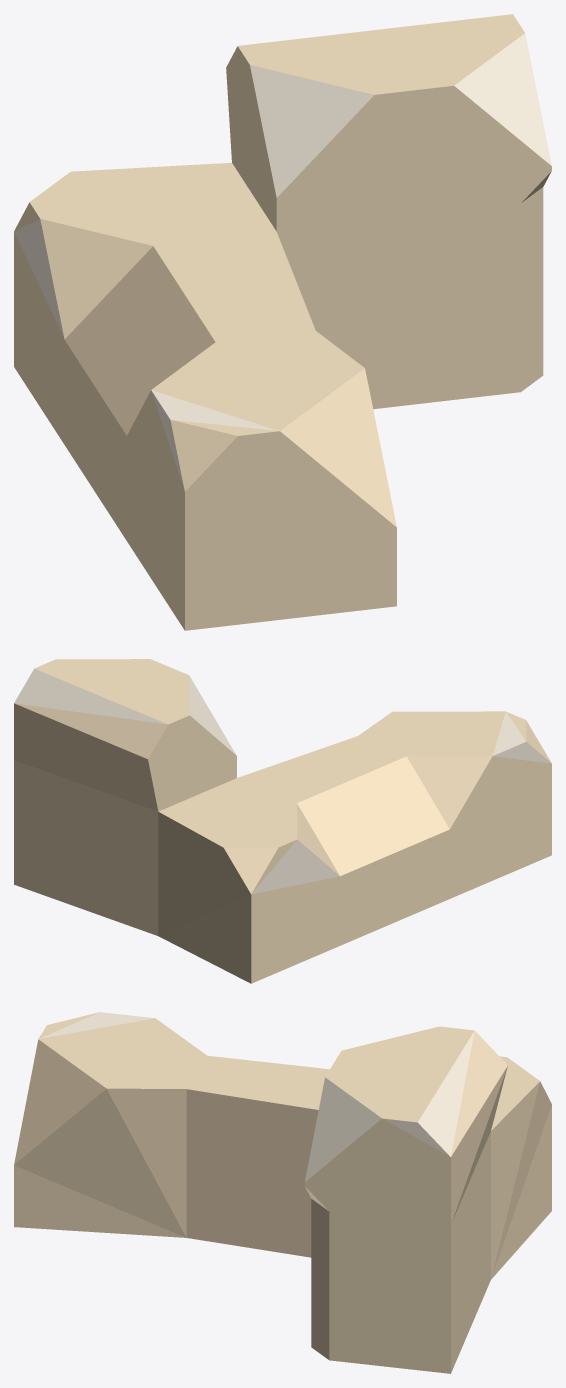
The model's file is desert_rock_18.fbx.
3 views of the same model, one above another, from view 1: azimuth 30°, elevation 25°; view 2: azimuth 150°, elevation 25°; view 3: azimuth 270°, elevation 25° (orthographic). The views are drawn at different scales.
Parts seen in each view (by area): view 1: desert_rock_18; view 2: desert_rock_18; view 3: desert_rock_18.
Boxes of the visible parts, x1,y1,x2,y2 form: desert_rock_18: [14, 14, 551, 630]; desert_rock_18: [14, 659, 551, 983]; desert_rock_18: [14, 1012, 551, 1373].
Size of the model in its own units: 183 by 97.15 by 191.
